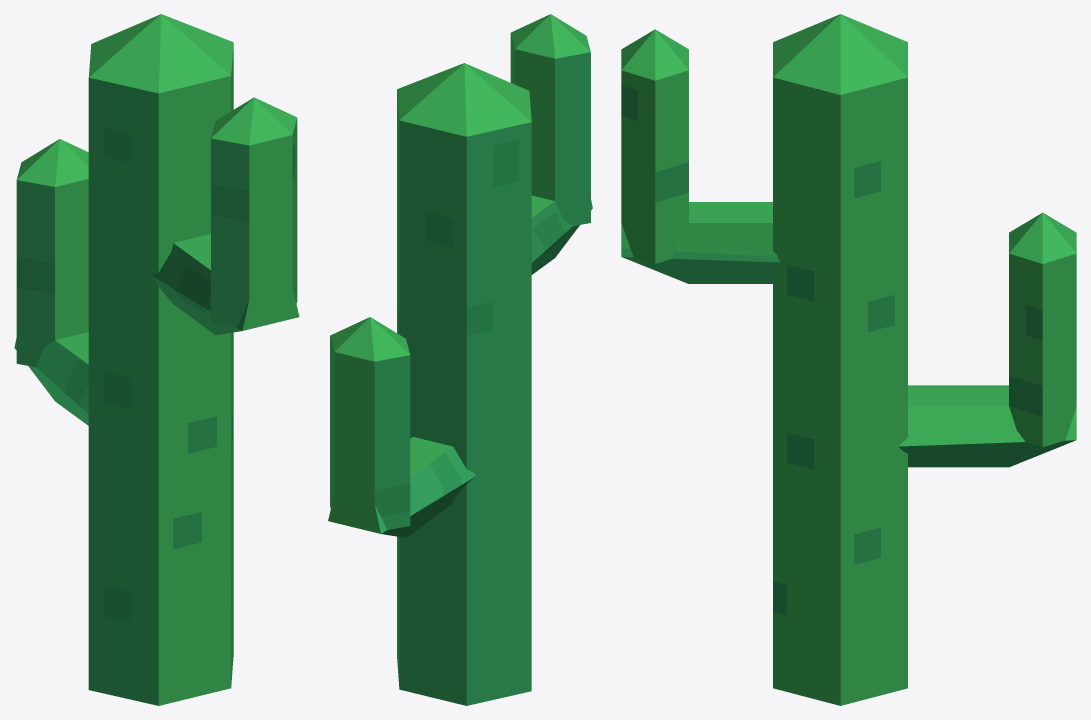
File: cactus_1.gltf
3 views of the same model, side by side, from view 1: azimuth 30°, elevation 25°; view 2: azimuth 150°, elevation 25°; view 3: azimuth 270°, elevation 25° (orthographic). The views are drawn at different scales.
Visible parts, largest first — view 1: cylinder (×5); view 2: cylinder (×5); view 3: cylinder (×5).
Part boxes in pixels (x1,y1,x2,y2): cylinder (×5): (14, 14, 299, 705); cylinder (×5): (328, 14, 592, 705); cylinder (×5): (621, 14, 1076, 705).
Bounding box in the file's own units: 0.1547 × 0.6719 × 0.4219.
1 material, 1 textured.
